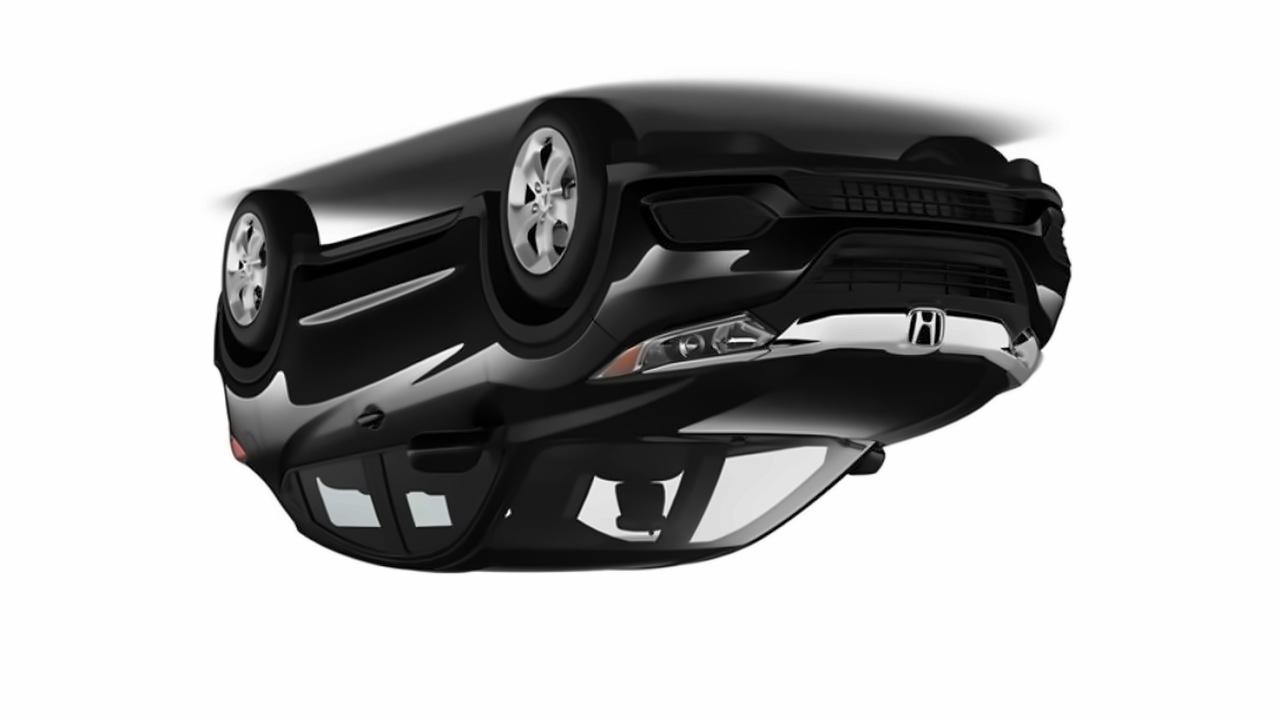Car hood: (631, 349, 1016, 449)
Fender - -F-L-: (481, 259, 610, 381)
Fender - -R-L-: (209, 348, 296, 403)
Front bumper: (591, 132, 1075, 317)
Headlight - -L-: (592, 311, 788, 405)
Headlight - -R-: (1000, 322, 1044, 405)
Passenger-s door - -F-L-: (351, 153, 503, 582)
Passenger-s door - -R-L-: (266, 193, 406, 571)
Rear bumper: (197, 366, 269, 438)
Rear light - -L-: (227, 437, 257, 472)
Side bumper - -L-: (286, 177, 499, 334)
Side mirror - -L-: (398, 420, 491, 474)
Side mirror - -R-: (837, 441, 889, 481)
